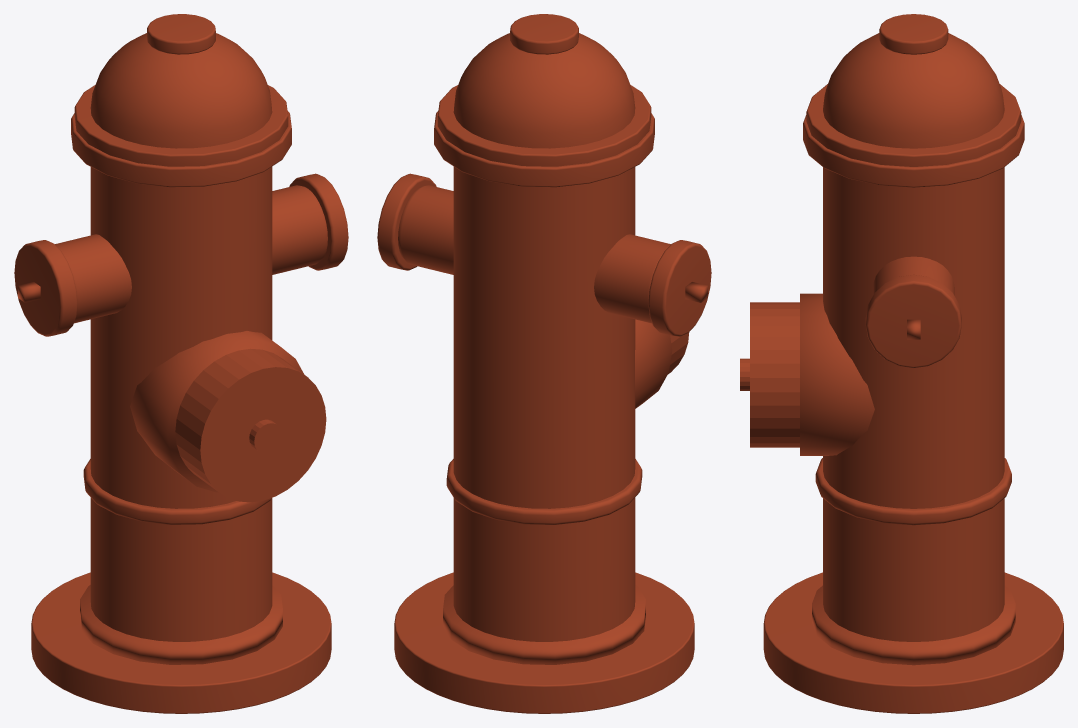
File: Hydrant.fbx
3 views of the same model, side by side, from view 1: azimuth 30°, elevation 25°; view 2: azimuth 150°, elevation 25°; view 3: azimuth 270°, elevation 25° (orthographic).
Parts seen in each view (by area): view 1: pSphere1; view 2: pSphere1; view 3: pSphere1.
Boxes of the visible parts, x1,y1,x2,y2 form: pSphere1: (14, 14, 348, 713); pSphere1: (377, 14, 711, 713); pSphere1: (740, 14, 1063, 713).
Bounding box in the file's own units: 4.06 × 7.56 × 3.56.
